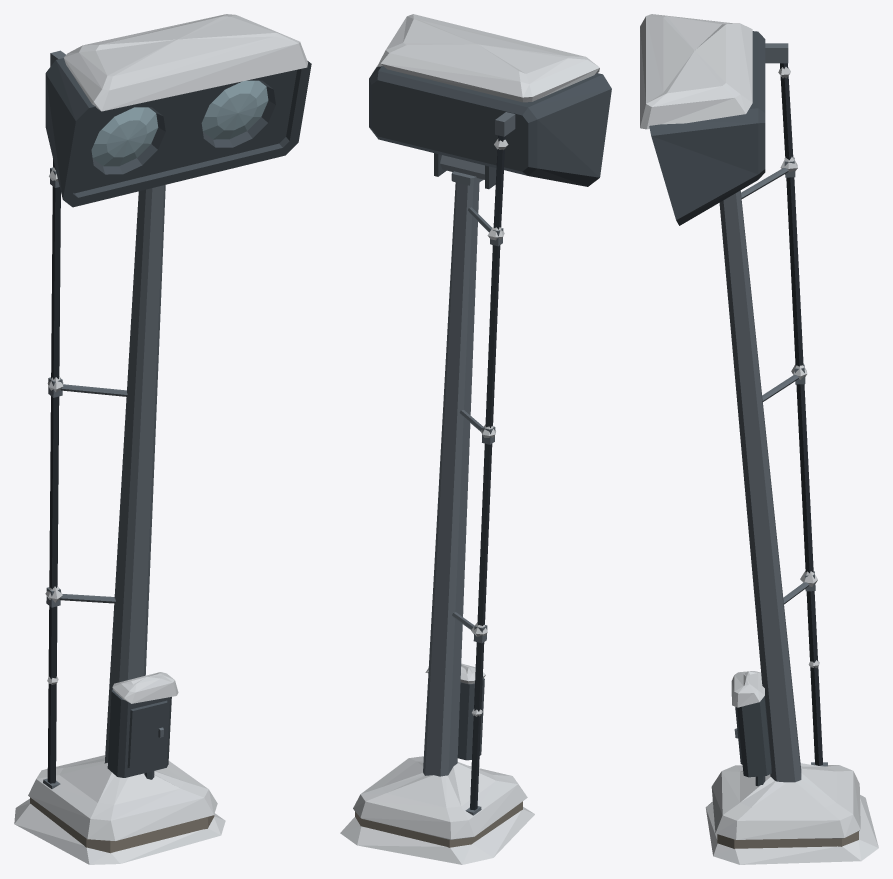
The model's file is piste-floodlight-mast-a31cf2.glb.
3 renders of one model, left to right at view 1: azimuth 30°, elevation 25°; view 2: azimuth 150°, elevation 25°; view 3: azimuth 270°, elevation 25°, orthographic. The views are drawn at different scales.
Visible parts, largest first — view 1: piste-floodlight-mast-body; view 2: piste-floodlight-mast-body; view 3: piste-floodlight-mast-body.
Part boxes in pixels (bbox=[...]): piste-floodlight-mast-body: bbox=[14, 14, 311, 864]; piste-floodlight-mast-body: bbox=[340, 14, 611, 864]; piste-floodlight-mast-body: bbox=[640, 14, 878, 864].
Bounding box in the file's own units: 1.84 × 6.09 × 1.69.
